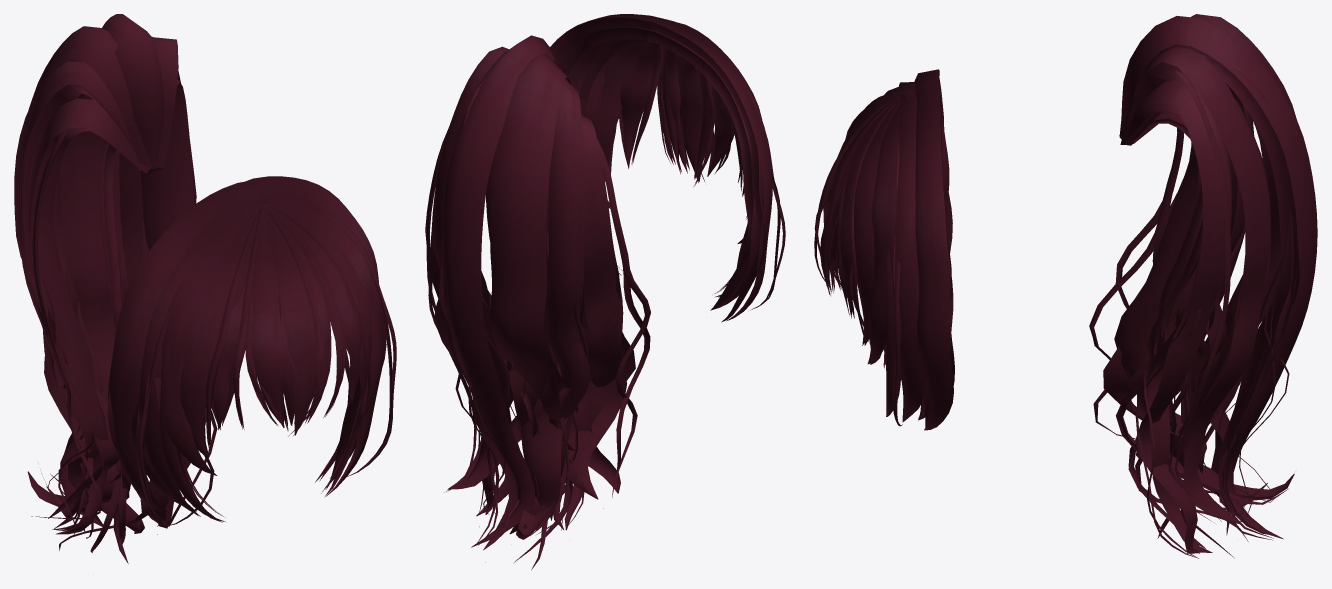
File: vroid_hair_c3.glb
The picture shows the model from 3 angles, left to right: view 1: azimuth 30°, elevation 25°; view 2: azimuth 150°, elevation 25°; view 3: azimuth 270°, elevation 25°; orthographic projection. The views are drawn at different scales.
Parts seen in each view (by area): view 1: hair; view 2: hair; view 3: hair.
Part boxes in pixels (x1,y1,x2,y2): hair: (14, 14, 396, 563); hair: (425, 14, 785, 570); hair: (814, 14, 1317, 558).
Size of the model in its own units: 0.1999 by 0.3994 by 0.3235.
1 material, 1 textured.
